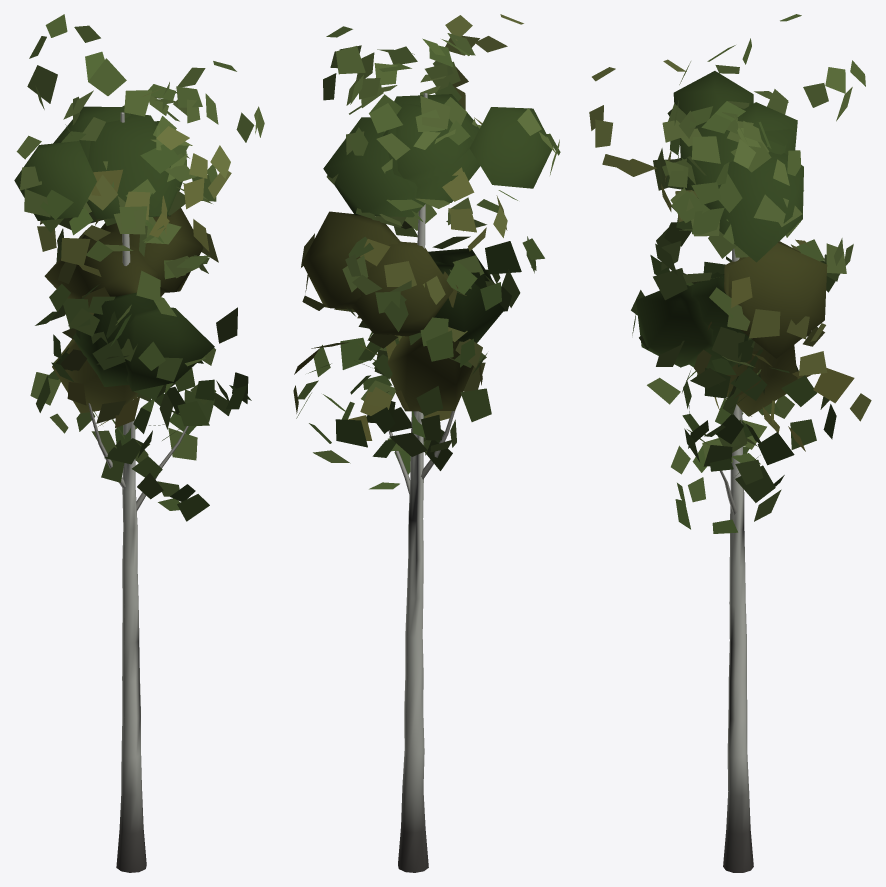
The model's file is tree_aspen_mid.glb.
The picture shows the model from 3 angles, left to right: view 1: azimuth 30°, elevation 25°; view 2: azimuth 150°, elevation 25°; view 3: azimuth 270°, elevation 25°; orthographic projection. The views are drawn at different scales.
Parts seen in each view (by area): view 1: tree_aspen_mid; view 2: tree_aspen_mid; view 3: tree_aspen_mid.
Boxes of the visible parts, x1,y1,x2,y2 form: tree_aspen_mid: (14, 14, 264, 872); tree_aspen_mid: (293, 14, 560, 872); tree_aspen_mid: (589, 14, 871, 872).
Size of the model in its own units: 4.14 by 14.21 by 4.36.
